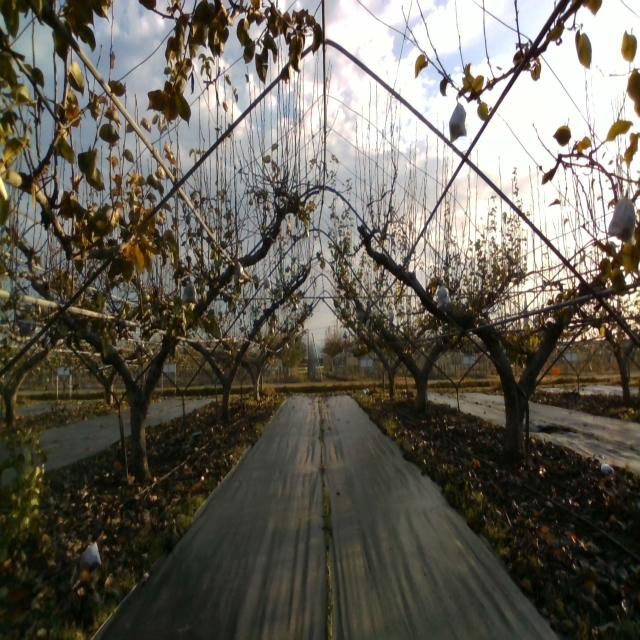pearbags: (608, 189, 636, 241), (449, 95, 466, 143), (181, 279, 198, 306), (233, 260, 249, 284), (436, 286, 452, 308)
